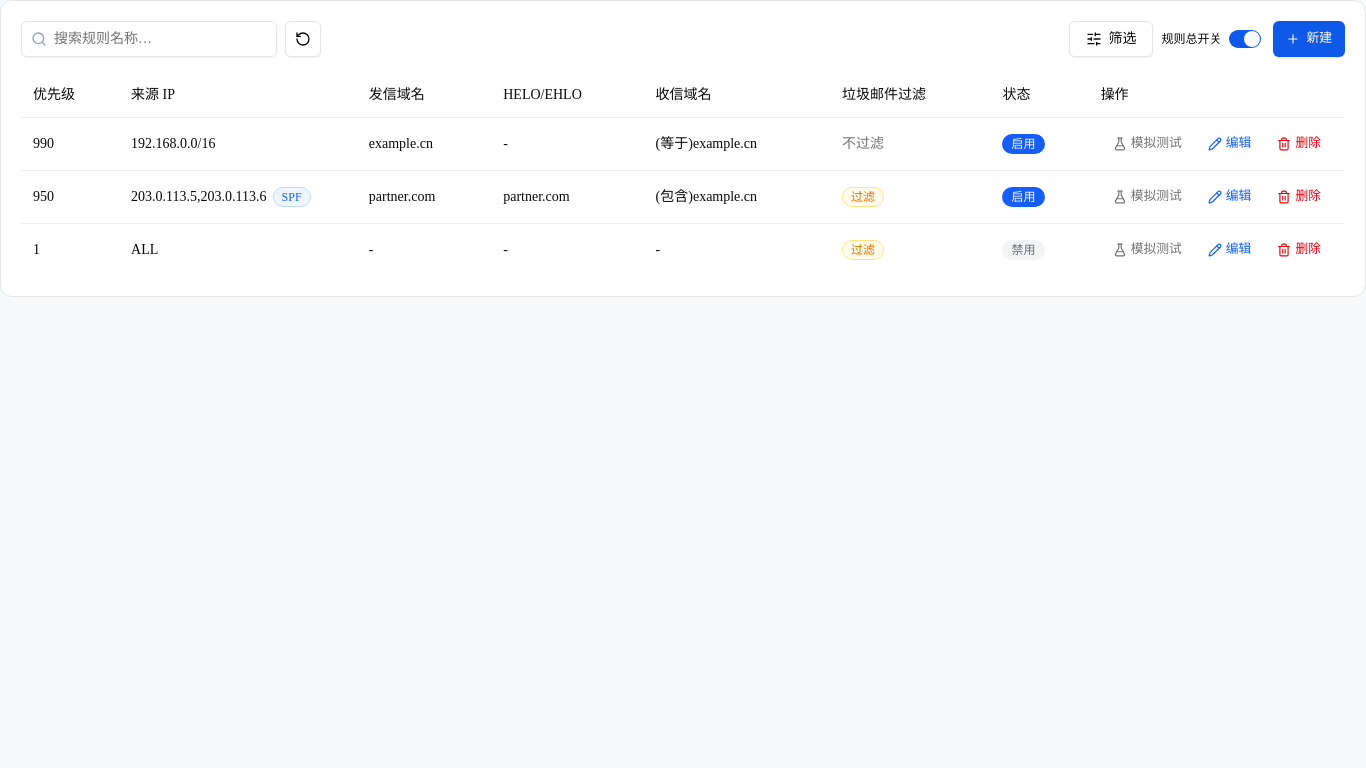
Test: RelayTab › SPF checkbox checked without a sender domain shows the immediate required red hint
Click the button with test id "mr-relay-create".
click(1309, 39)  # box [1273,21,1345,57]
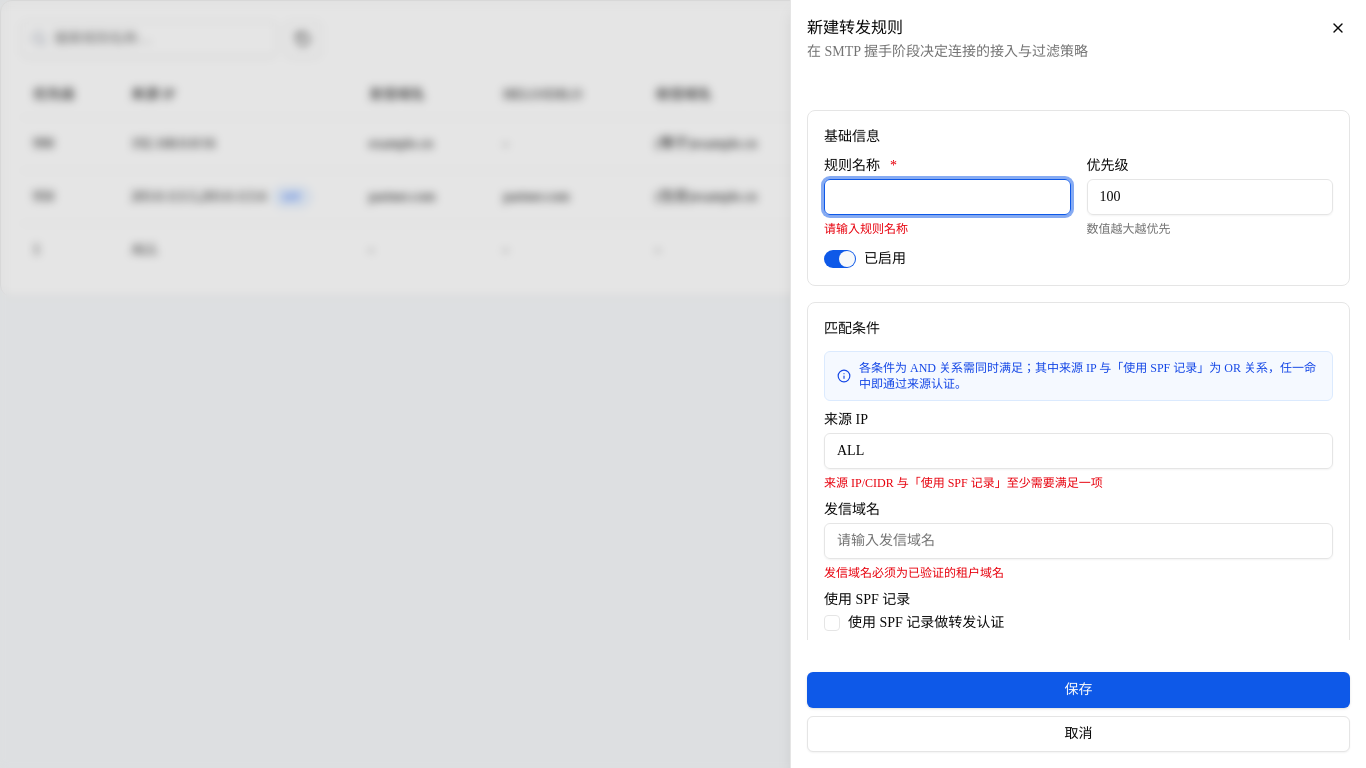
Now the dialog with test id "mr-relay-drawer" is shown, box [790,0,1365,767]
Click the checkbox with test id "mr-relay-spf-checkbox".
click(832, 623)  # box [824,615,840,631]
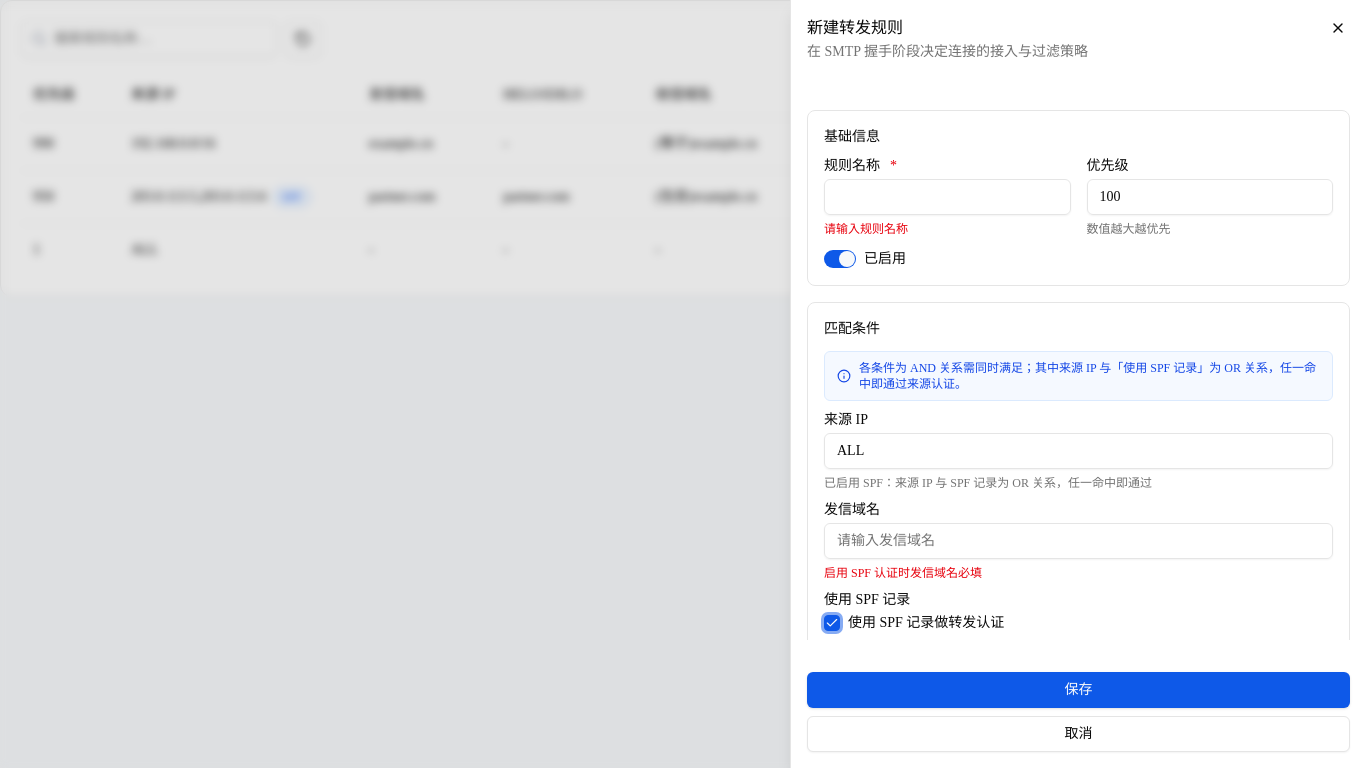
Now the text with test id "mr-relay-from-domain-error" reads "启用 SPF 认证时发信域名必填", box [824,566,982,580]
Type "partner.com" into the field with test id "mr-relay-from-domain-input".
click(1078, 541); type("partner.com")  # box [824,523,1333,559]
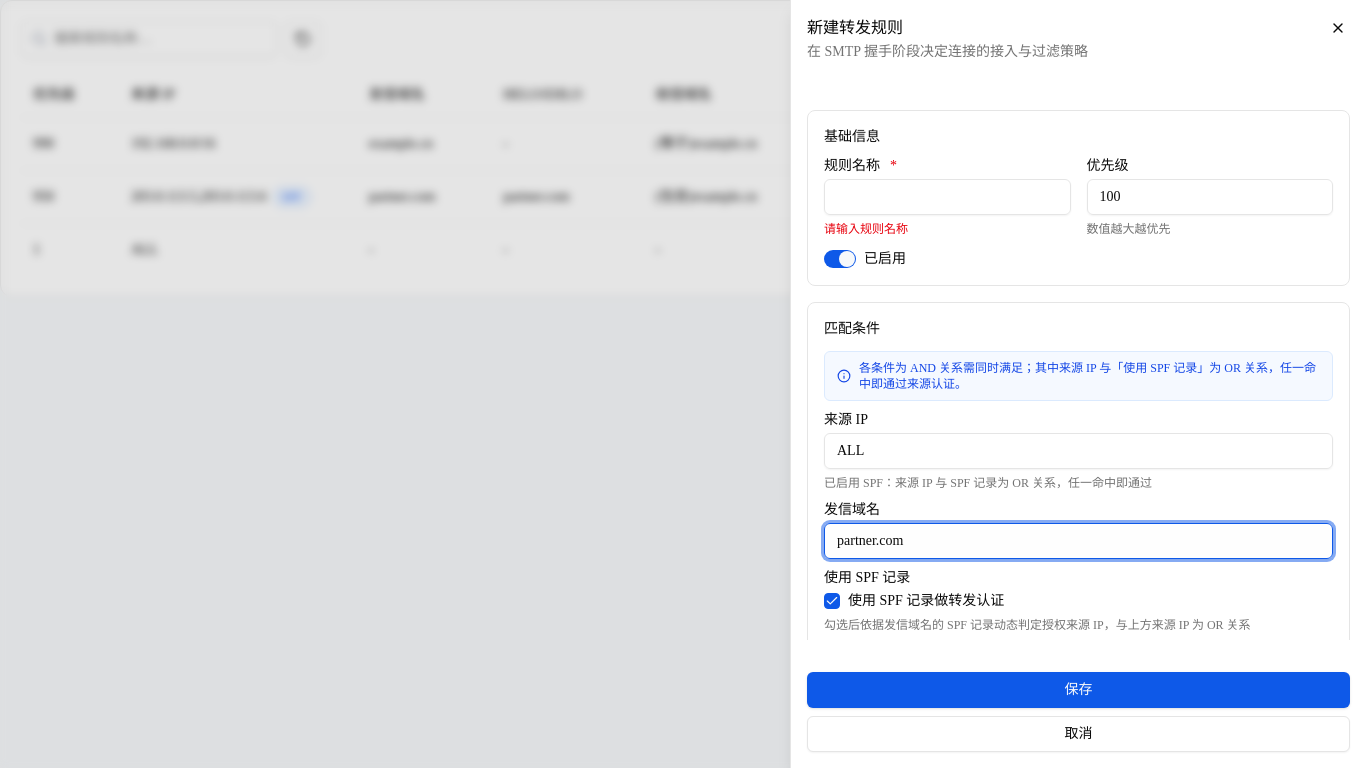
Now the text with test id "mr-relay-from-domain-error" is gone
